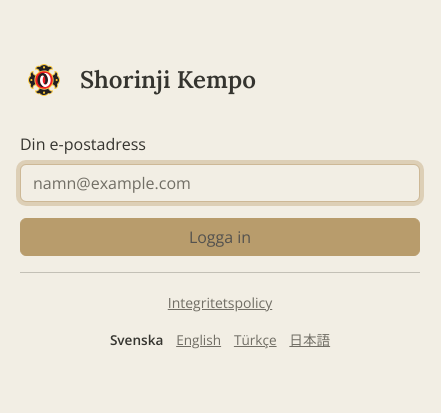
it: LoginScreen — how long the code lasts › states the validity the server reported, not a number of its own
Step 1. Type "kenshi@example.org" into the field labelled "Din e-postadress" → (220, 183), box x1=20 y1=164 x2=420 y2=202
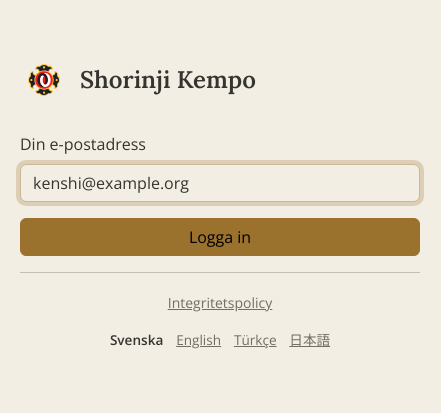
Step 2. Click the button "Logga in" → (220, 237), box x1=20 y1=218 x2=420 y2=256
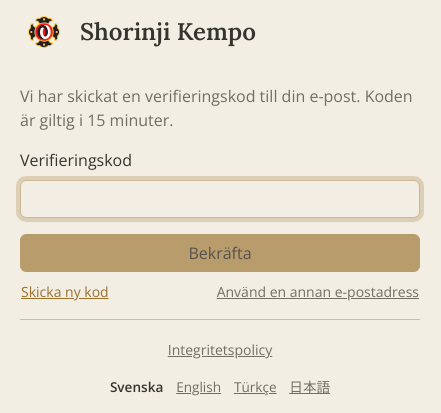
Expected: the text "Koden är giltig i 15 minuter." is shown, x1=20 y1=85 x2=413 y2=131
